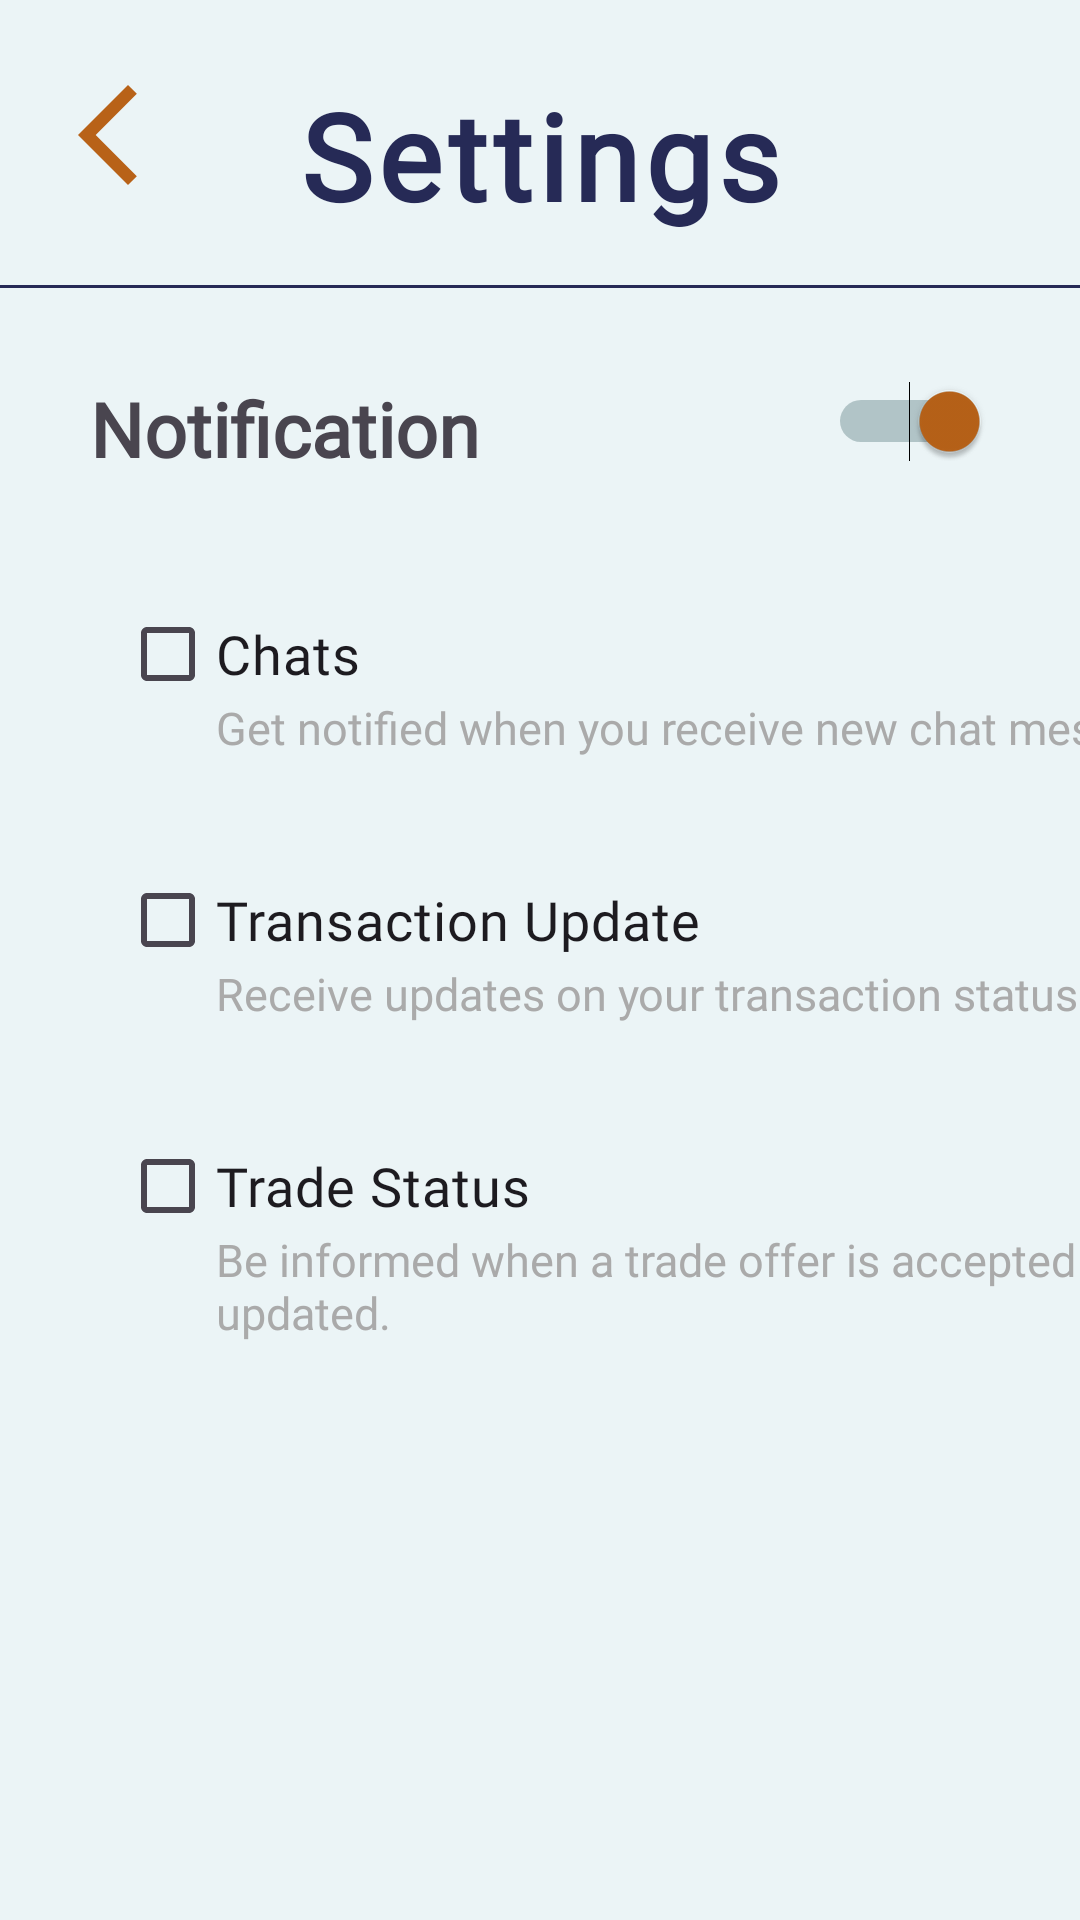

Screen size 1080 x 1920. Icon name, then its center in pixels as (x=x, y=y):
back: (x=107, y=135)
